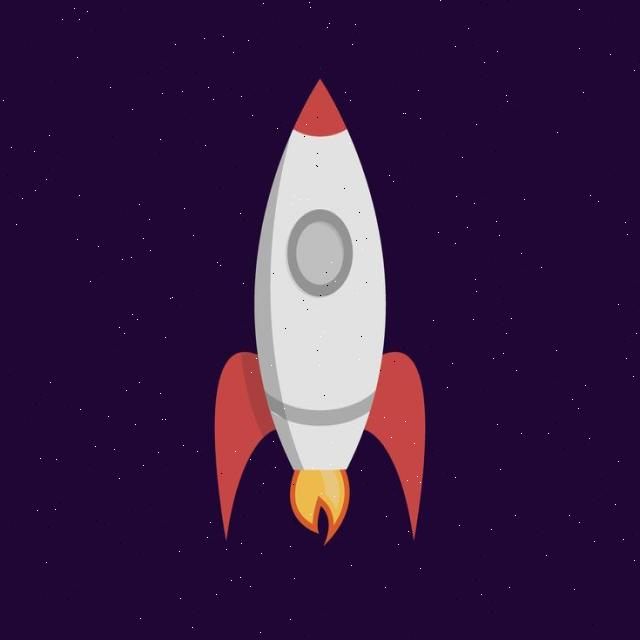rocket: (204, 56, 434, 564)
